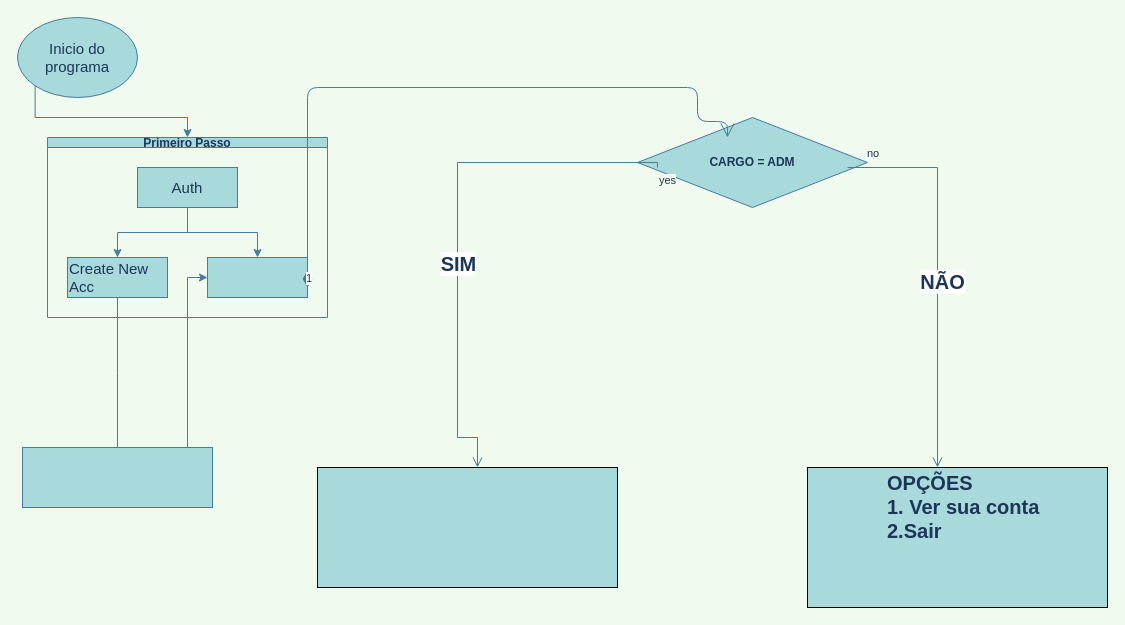
Image size: 1125x625. Some labels were removed from this diagram. The shapes that lost their labels are listed below. From the top down, each one's centre as x and y in pixels, then its label:
point (257, 277): Login
point (117, 477): Generate new list ID; NAME; CPF; CARGO;SENHA
point (467, 527): OPÇÕES VER SUA CONTA VER CONTA DE UM FUNCIONÁRIO VER TODOS OS FUNCIONÁRIOS SAIR
